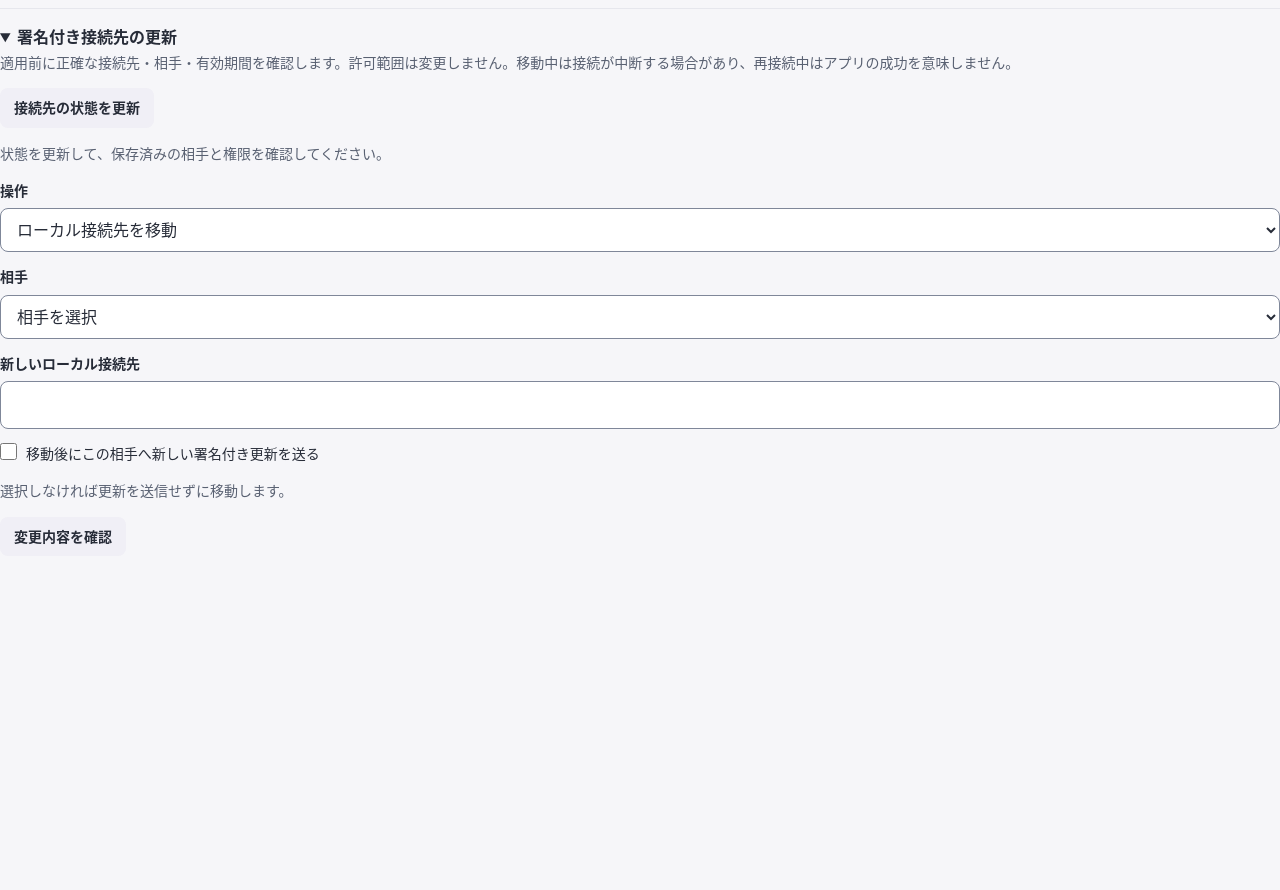
Scenario: reviewed endpoint controls › requires separate exact consent and sends no implicit delivery in ja
In the field labelled "新しいローカル接続先": (640, 405) [0,381,1279,429], type "127.0.0.2:48444"
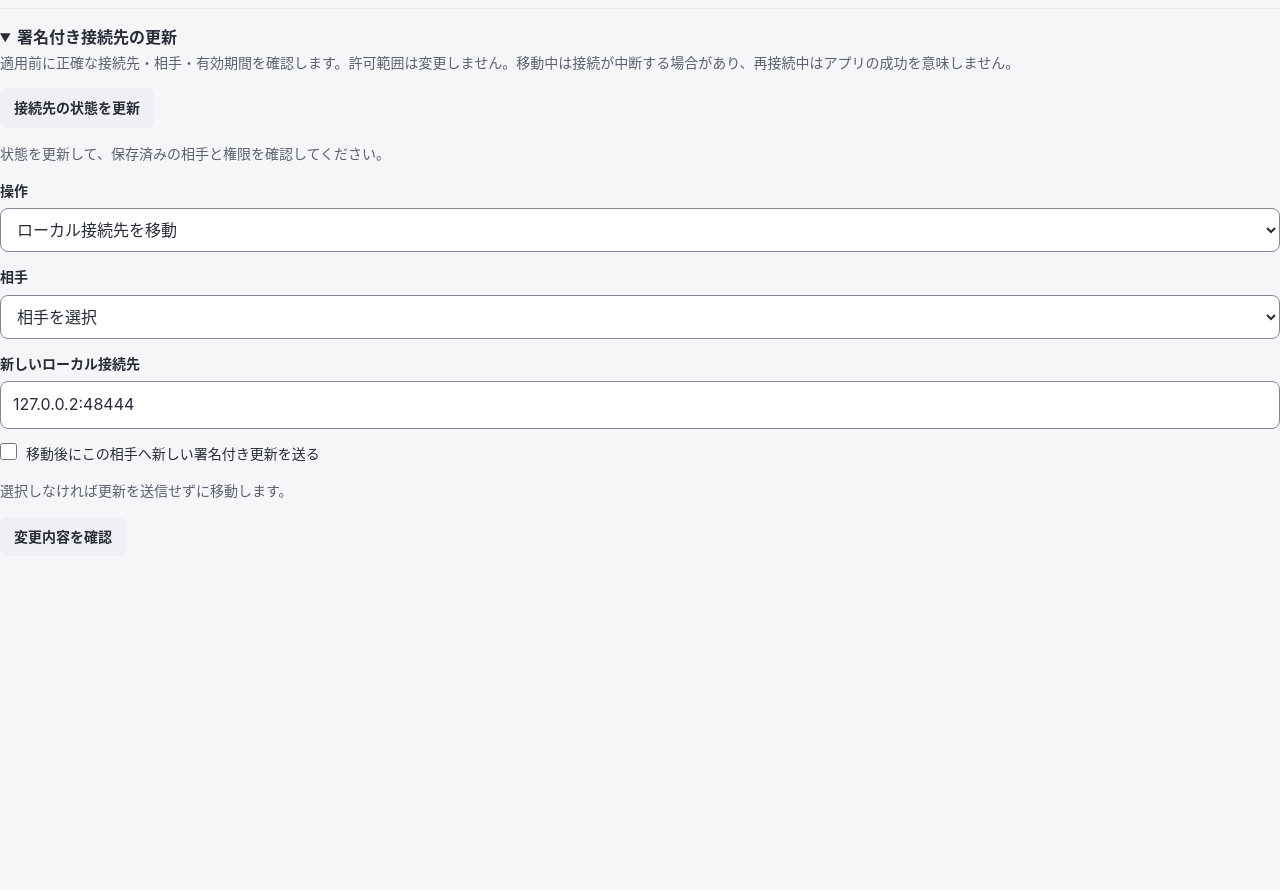
Click the button "変更内容を確認": (63, 536) [0,517,126,556]
(page scrolled)
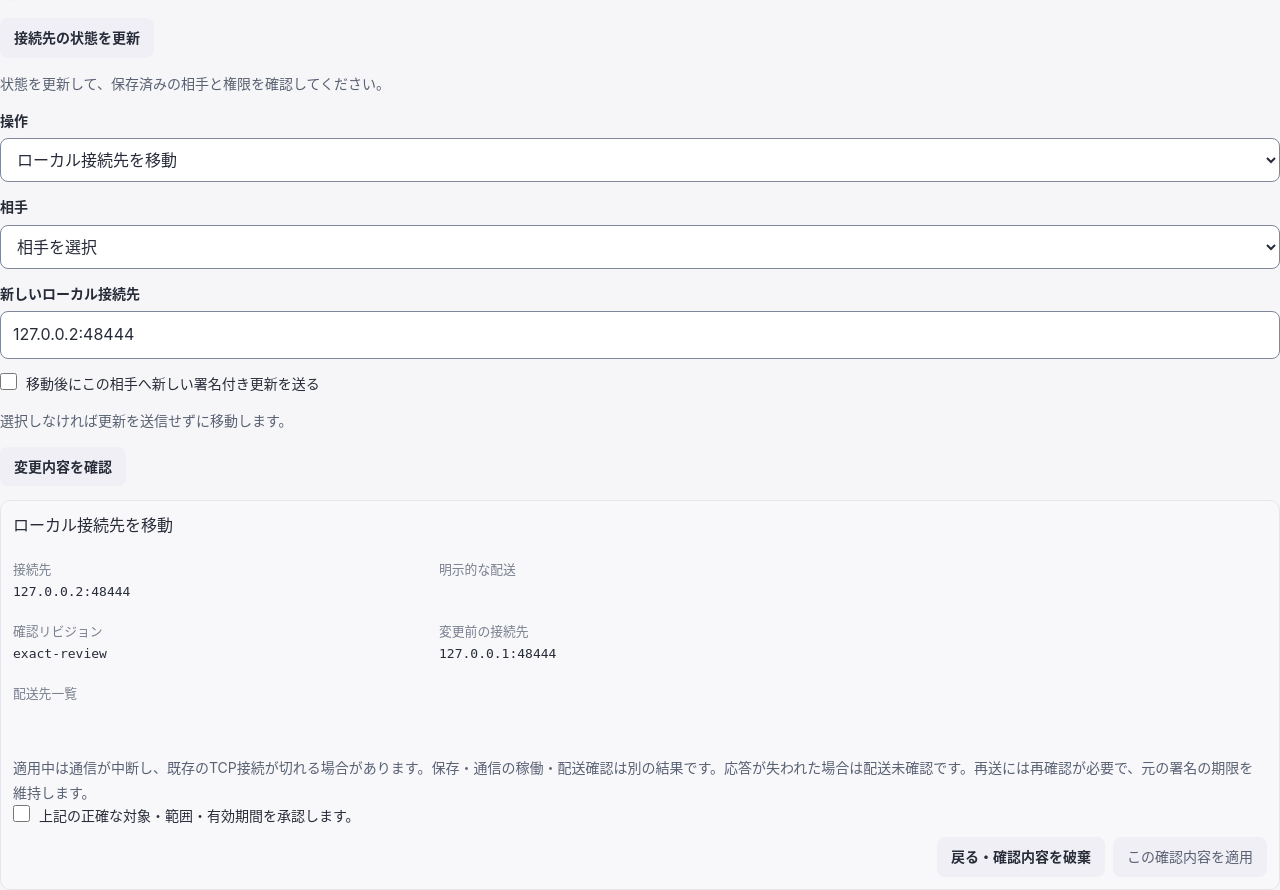
Result: the element named "変更内容を確認" is shown at [0,500,1279,889]
Result: the button "この確認内容を適用" is disabled at [1113,837,1267,877]
Click the checkbox labelled "上記の正確な対象・範囲・有効期間を承認します。": (22, 814) [13,805,30,822]
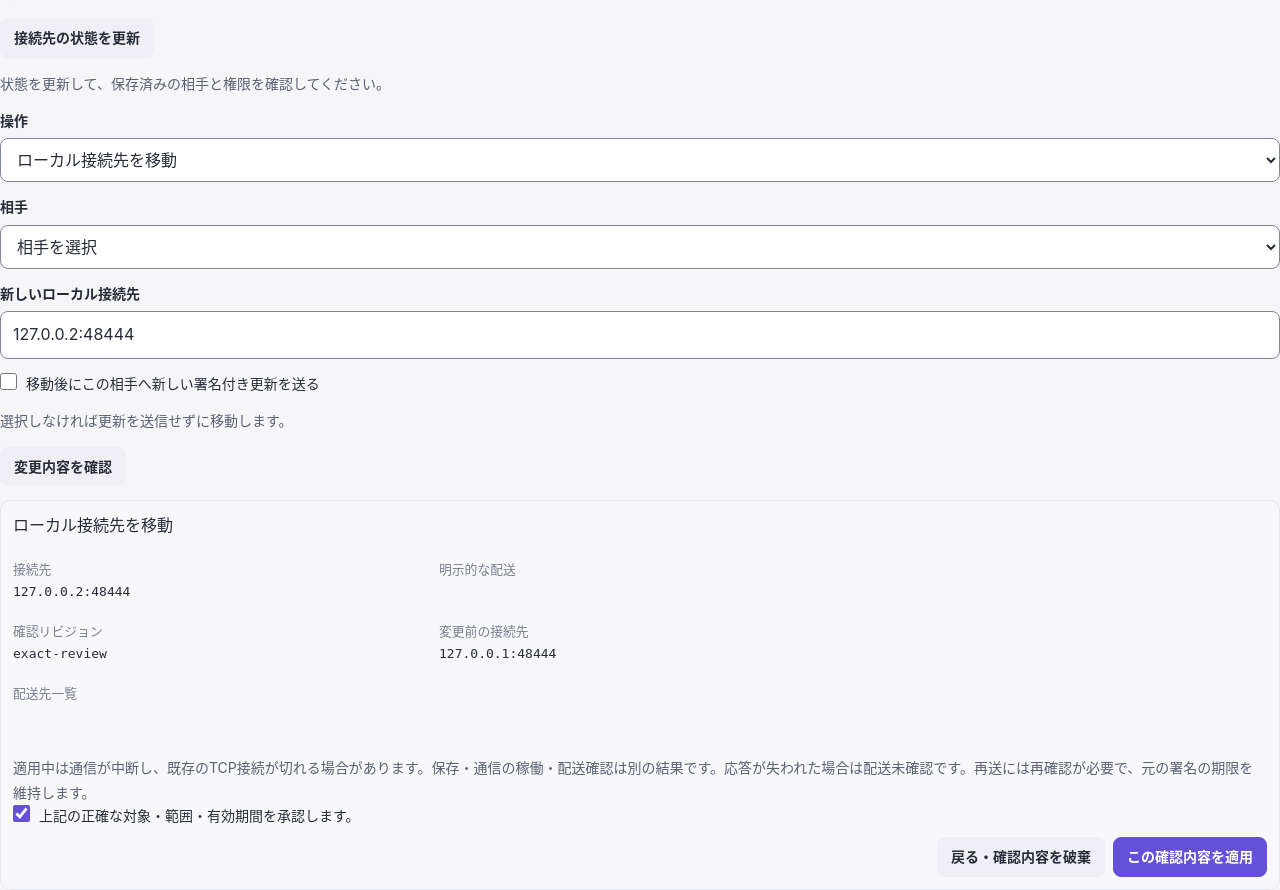
Click the button "この確認内容を適用": (1190, 857) [1113,837,1267,877]
(page scrolled)
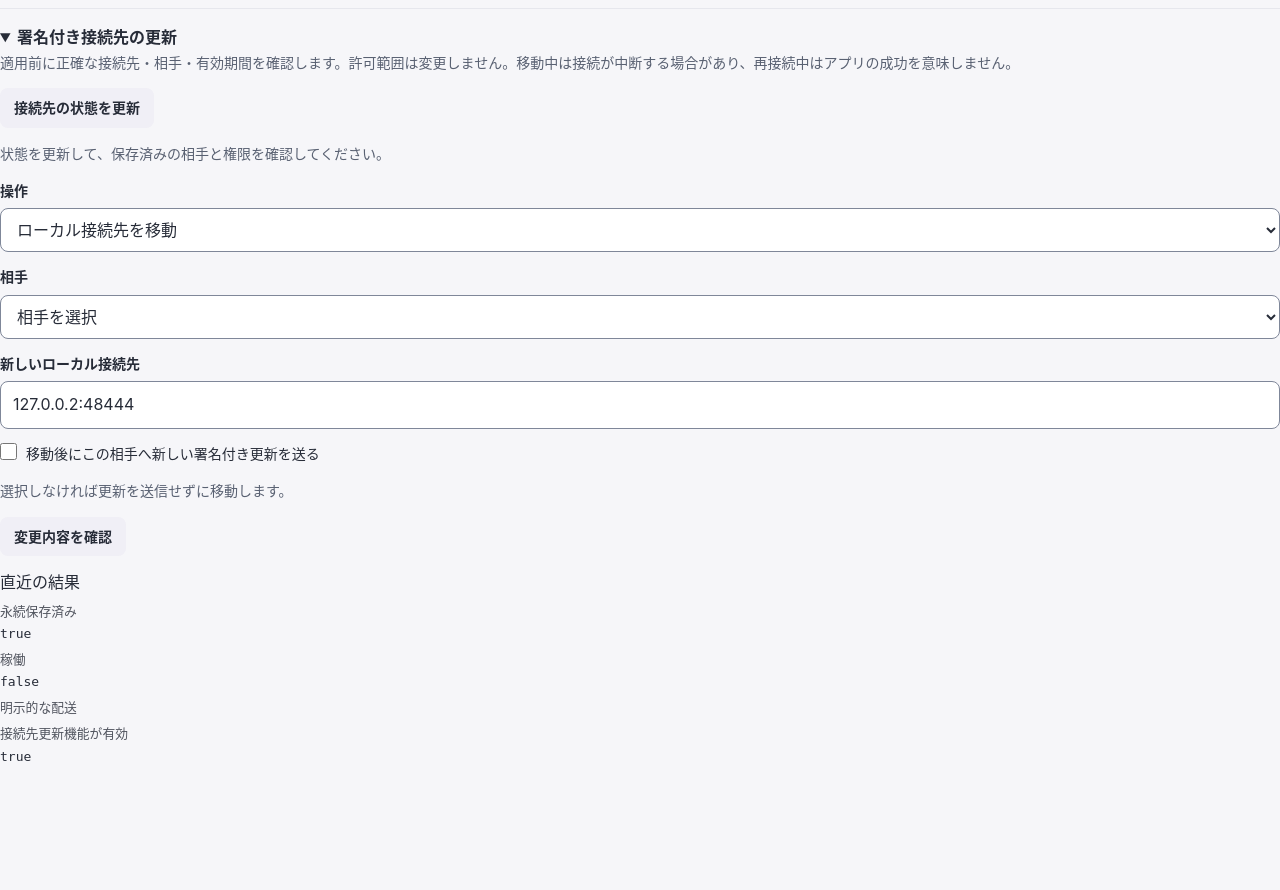
Result: the text "false" is shown at [0,674,39,689]
Result: the button "この確認内容を適用" is gone
